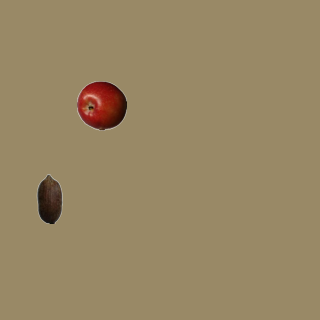Apple Braeburn: (76, 80, 126, 130)
Nut Pecan: (24, 173, 74, 223)
